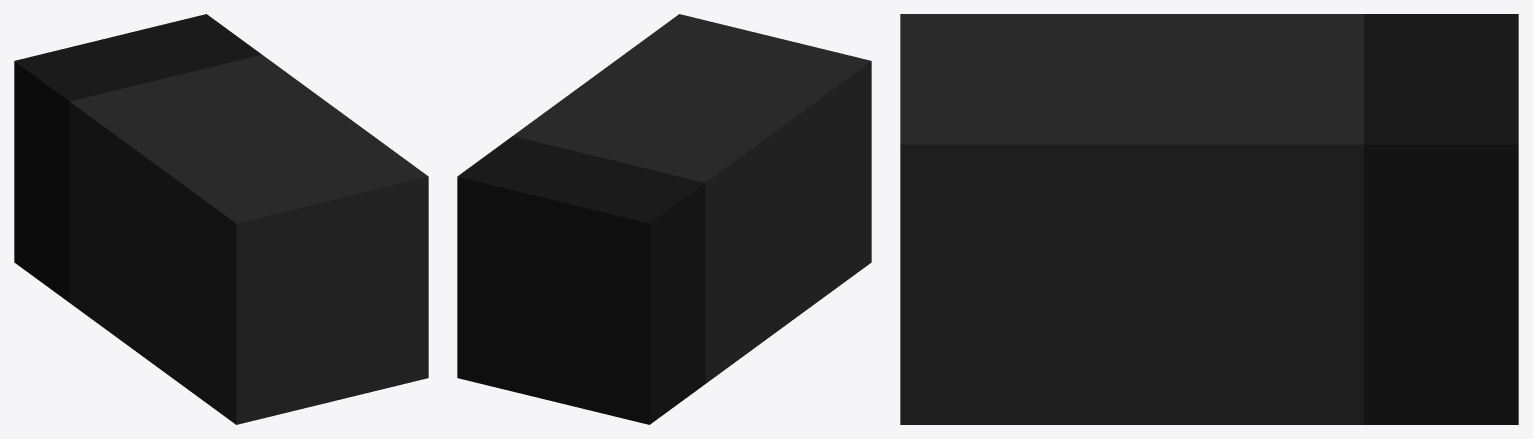
The model's file is right_leg.obj.
3 renders of one model, left to right at view 1: azimuth 30°, elevation 25°; view 2: azimuth 150°, elevation 25°; view 3: azimuth 270°, elevation 25°, orthographic. The views are drawn at different scales.
Bounding box in the file's own units: 0.2 × 0.2 × 0.4.
Materials: 1 (1 with a texture image).
